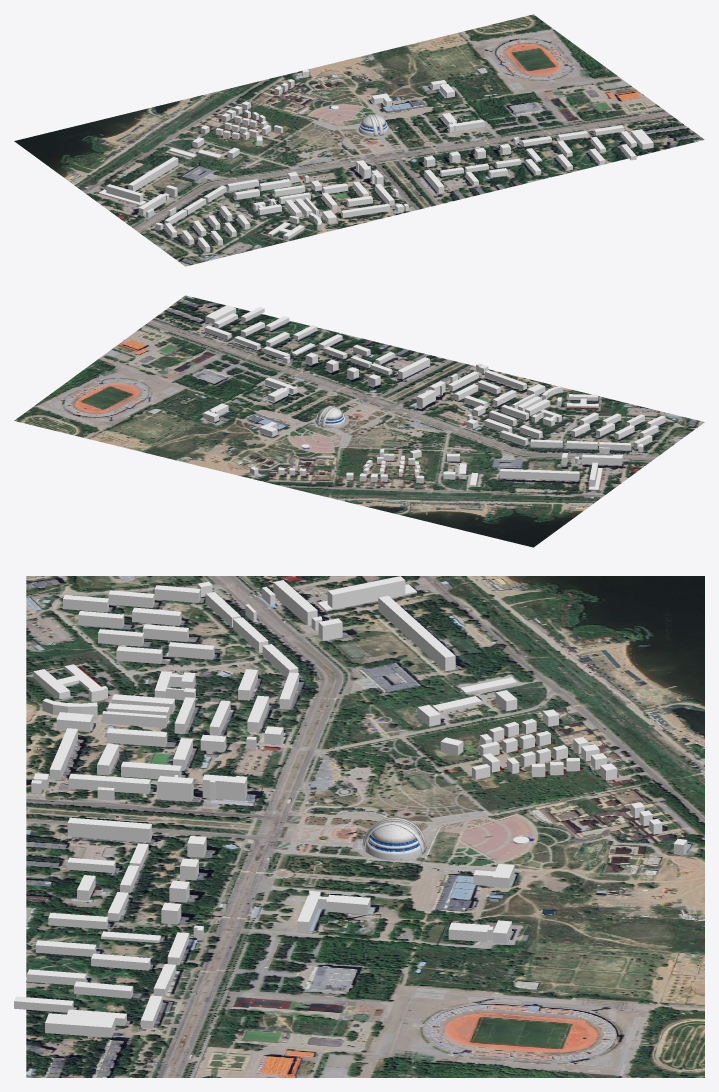
File: myzei.glb
The picture shows the model from 3 angles, top to bottom: view 1: azimuth 30°, elevation 25°; view 2: azimuth 150°, elevation 25°; view 3: azimuth 270°, elevation 25°; orthographic projection. The views are drawn at different scales.
Visible parts, largest first — view 1: EXPORT_GOOGLE_SAT_WM, Areas:building, Sphere; view 2: EXPORT_GOOGLE_SAT_WM, Areas:building, Sphere; view 3: EXPORT_GOOGLE_SAT_WM, Areas:building, Sphere.
Boxes of the visible parts, x1,y1,x2,y2 form: EXPORT_GOOGLE_SAT_WM: (14, 14, 704, 266); Areas:building: (98, 69, 653, 252); Sphere: (358, 113, 388, 136); EXPORT_GOOGLE_SAT_WM: (14, 295, 704, 547); Areas:building: (203, 305, 665, 490); Sphere: (315, 406, 345, 427); EXPORT_GOOGLE_SAT_WM: (26, 576, 704, 1077); Areas:building: (14, 576, 687, 1037); Sphere: (362, 817, 426, 860).
Size of the model in its own units: 7798846 by 221405 by 4538309.
5 materials, 4 textured.
